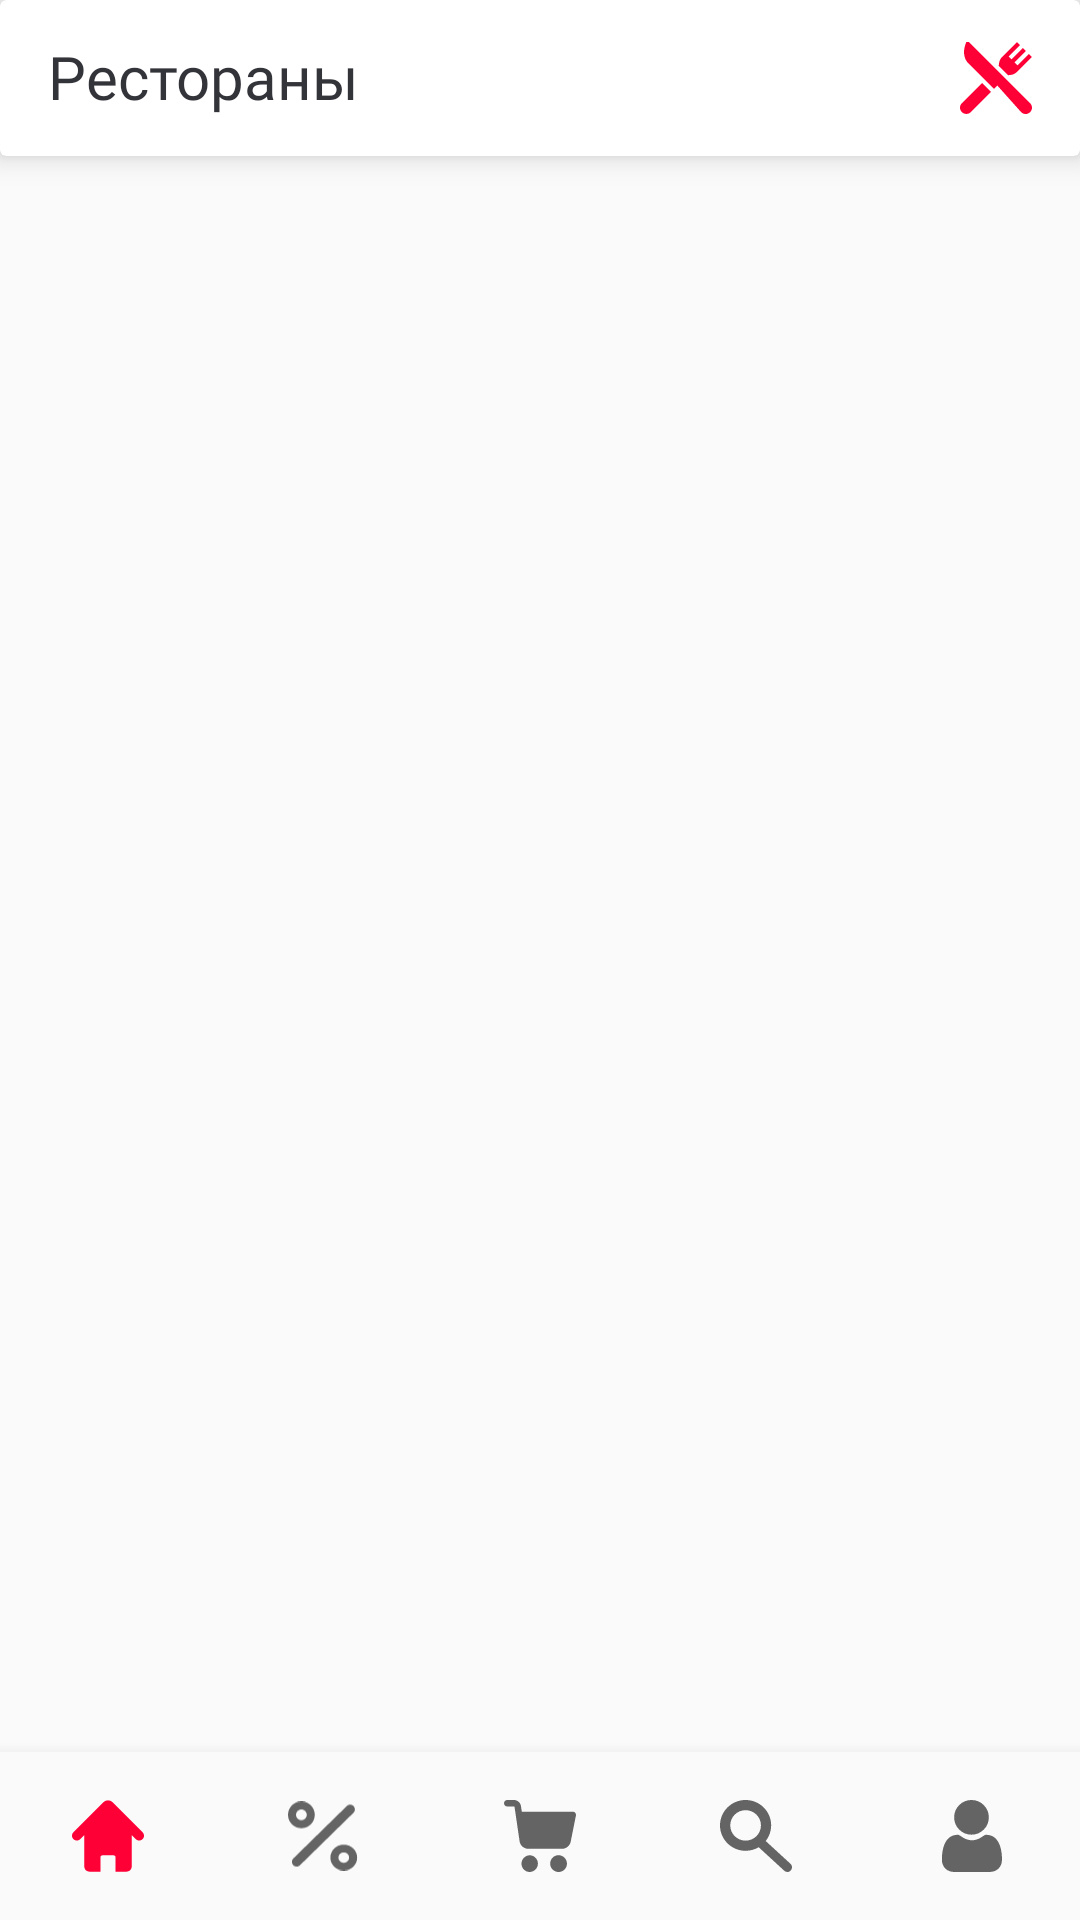

Locate icon controls on the screen. Image size 1080x1920, boxes as (x1, y1, x2, y2).
restaurant: (960, 42, 1032, 114)
